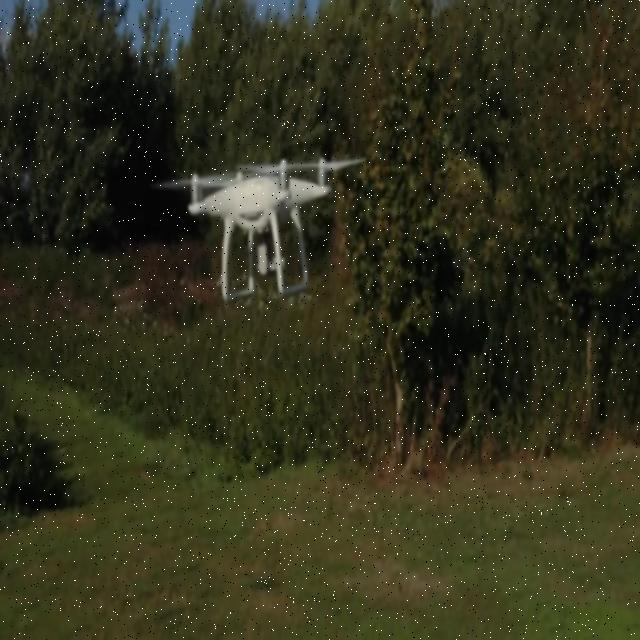UAV: (153, 158, 366, 302)
